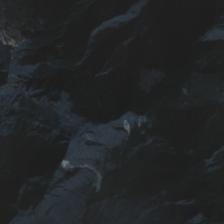landslides: (86, 165, 102, 194), (9, 93, 24, 112), (123, 113, 132, 143), (0, 84, 14, 97), (60, 160, 72, 172), (128, 111, 136, 128), (138, 114, 147, 129), (72, 164, 87, 171), (209, 31, 219, 41)
